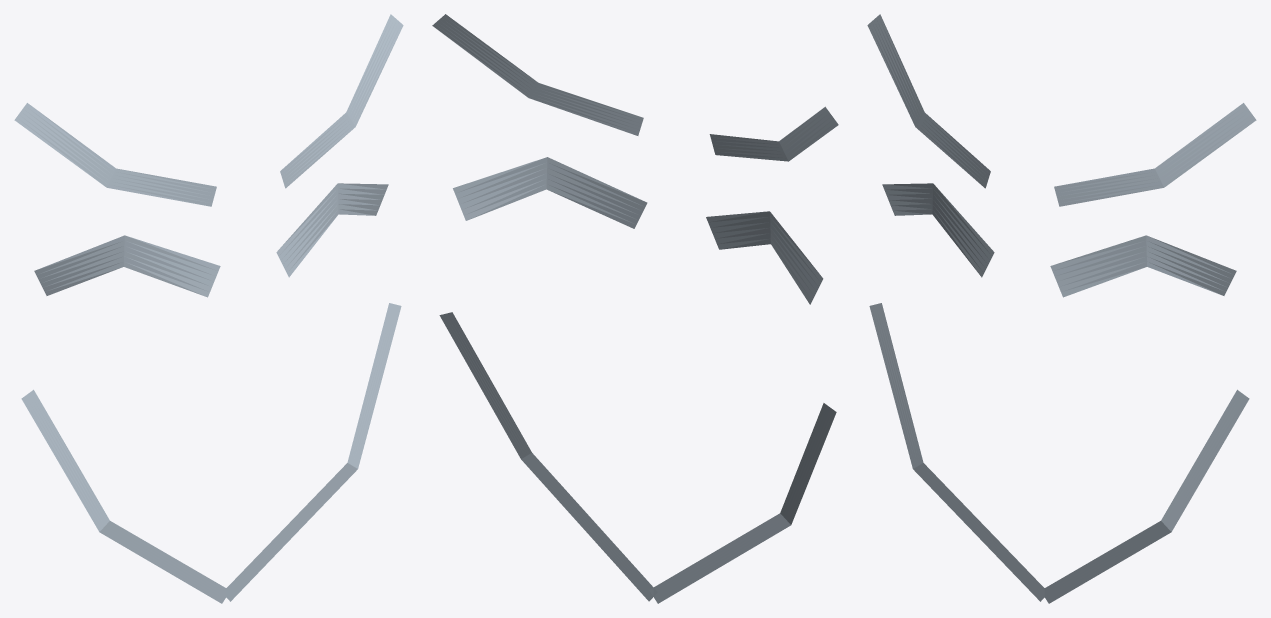
The model's file is Xiao_BaneOfAllEvilState_MaskInlaidDetails.fbx.
3 renders of one model, left to right at view 1: azimuth 30°, elevation 25°; view 2: azimuth 150°, elevation 25°; view 3: azimuth 330°, elevation 25°, orthographic. The views are drawn at different scales.
Visible parts, largest first — view 1: PART_MaskColdEye_-1, PART_MaskGoldBrow_-1, PART_MaskAngularJaw_-1, PART_MaskAngularJaw_1, PART_MaskColdEye_1, PART_MaskGoldBrow_1; view 2: PART_MaskColdEye_1, PART_MaskAngularJaw_1, PART_MaskAngularJaw_-1, PART_MaskGoldBrow_1, PART_MaskColdEye_-1, PART_MaskGoldBrow_-1; view 3: PART_MaskColdEye_1, PART_MaskGoldBrow_1, PART_MaskAngularJaw_1, PART_MaskAngularJaw_-1, PART_MaskColdEye_-1, PART_MaskGoldBrow_-1.
Boxes of the visible parts, x1,y1,x2,y2 form: PART_MaskColdEye_-1: (34, 235, 220, 297); PART_MaskGoldBrow_-1: (14, 103, 216, 206); PART_MaskAngularJaw_-1: (21, 389, 226, 603); PART_MaskAngularJaw_1: (226, 303, 401, 601); PART_MaskColdEye_1: (276, 183, 388, 277); PART_MaskGoldBrow_1: (280, 14, 403, 188); PART_MaskColdEye_1: (453, 157, 647, 228); PART_MaskAngularJaw_1: (439, 312, 657, 601); PART_MaskAngularJaw_-1: (649, 403, 836, 603); PART_MaskGoldBrow_1: (432, 14, 643, 135); PART_MaskColdEye_-1: (706, 211, 823, 304); PART_MaskGoldBrow_-1: (709, 106, 838, 161); PART_MaskColdEye_1: (1050, 235, 1236, 297); PART_MaskGoldBrow_1: (1054, 103, 1256, 206); PART_MaskAngularJaw_1: (1044, 389, 1249, 603); PART_MaskAngularJaw_-1: (869, 303, 1044, 601); PART_MaskColdEye_-1: (882, 183, 994, 277); PART_MaskGoldBrow_-1: (867, 14, 990, 188).
Size of the model in its own units: 91.01 by 119 by 16.
